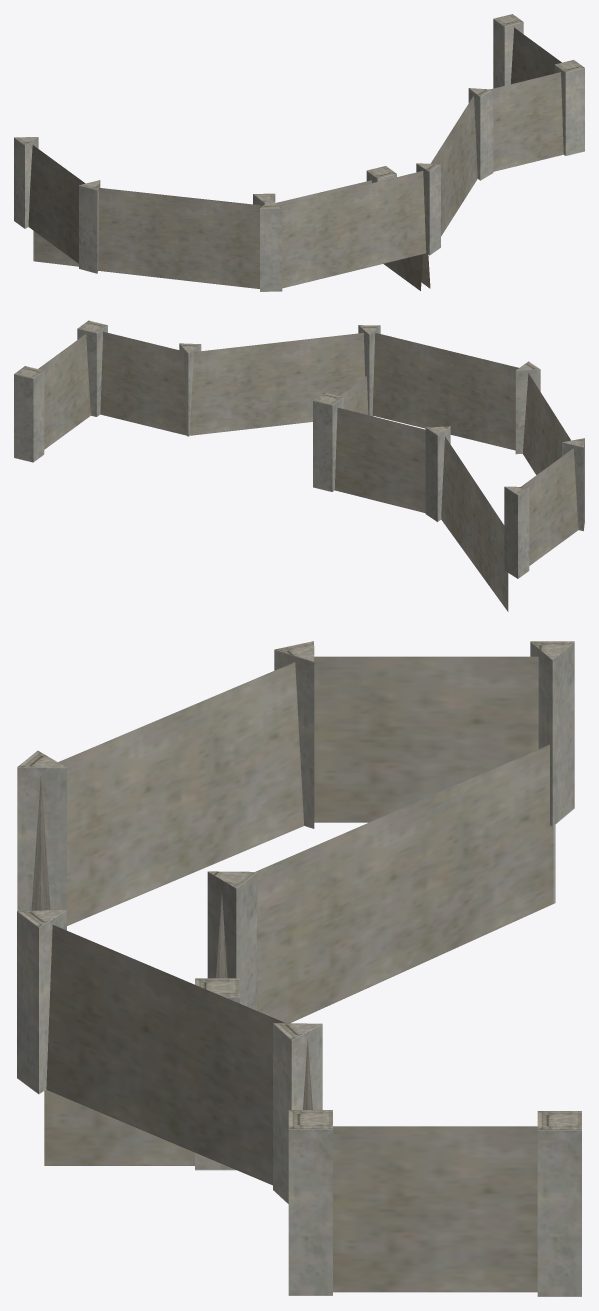
The model's file is poi_all_corral_half_32x32_s02_l1.fbx.
3 views of the same model, one above another, from view 1: azimuth 30°, elevation 25°; view 2: azimuth 150°, elevation 25°; view 3: azimuth 270°, elevation 25° (orthographic). The views are drawn at different scales.
Visible parts, largest first — view 1: mesh_node; view 2: mesh_node; view 3: mesh_node.
Boxes of the visible parts, box(x1,y1,x2,y2) form: mesh_node: box(14, 14, 584, 291); mesh_node: box(14, 320, 584, 611); mesh_node: box(17, 641, 581, 1296).
Bounding box in the file's own units: 26.02 × 6.15 × 12.71.
Materials: 1 (1 with a texture image).
